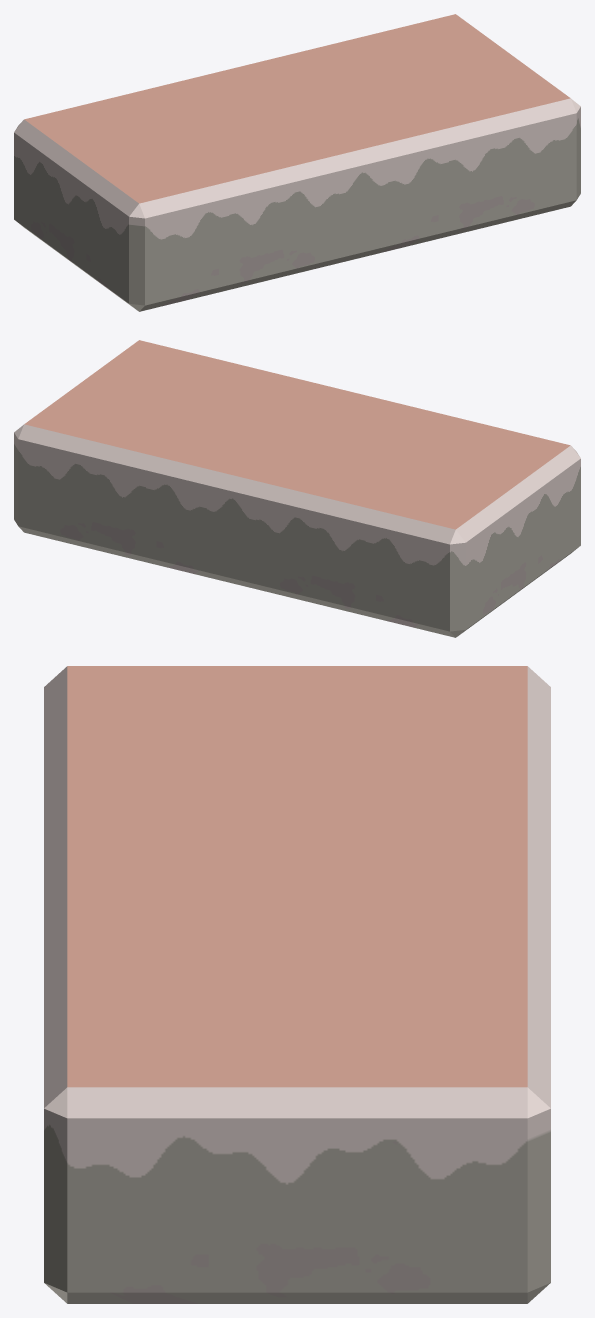
File: R4B_Plate1x2_LOD1.glb
3 renders of one model, top to bottom at view 1: azimuth 30°, elevation 25°; view 2: azimuth 150°, elevation 25°; view 3: azimuth 270°, elevation 25°, orthographic. The views are drawn at different scales.
Visible parts, largest first — view 1: R4B_Plate1x2_LOD1; view 2: R4B_Plate1x2_LOD1; view 3: R4B_Plate1x2_LOD1.
Boxes of the visible parts, bbox=[...] form: R4B_Plate1x2_LOD1: bbox=[14, 14, 580, 311]; R4B_Plate1x2_LOD1: bbox=[14, 340, 580, 637]; R4B_Plate1x2_LOD1: bbox=[44, 666, 550, 1303].
Bounding box in the file's own units: 1.07 × 0.245 × 0.52.
Materials: 2 (2 with a texture image).
